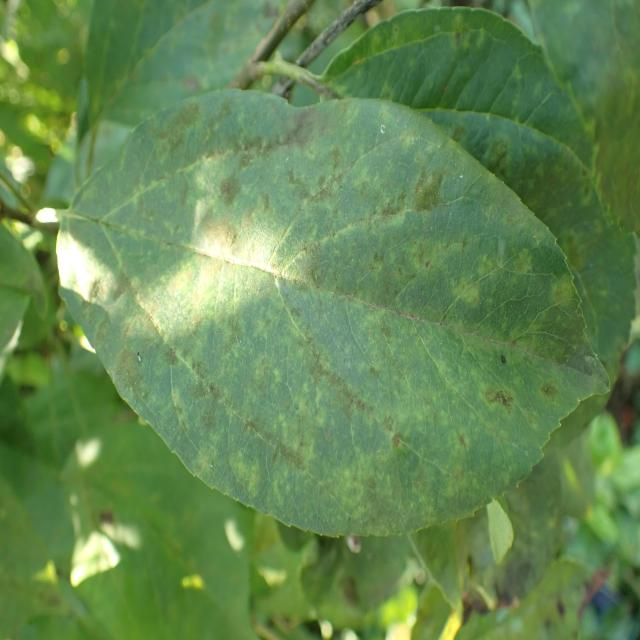scab: (80, 94, 598, 502)
